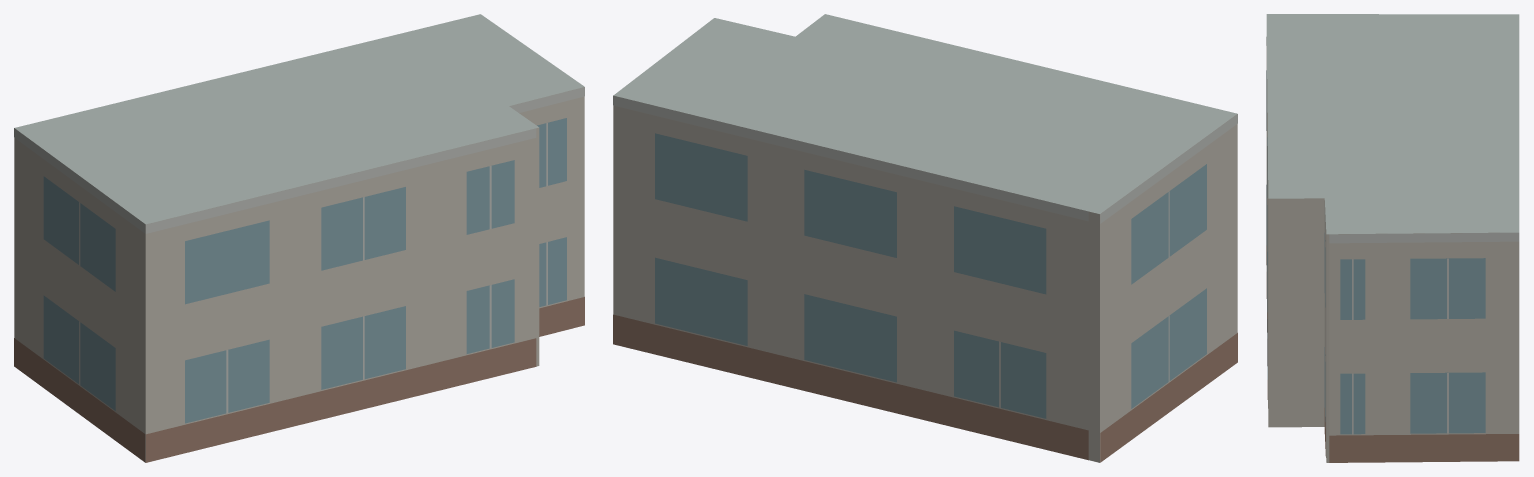
Rendered from survey-upis-32579440.glb.
3 views of the same model, side by side, from view 1: azimuth 30°, elevation 25°; view 2: azimuth 150°, elevation 25°; view 3: azimuth 270°, elevation 25° (orthographic). The views are drawn at different scales.
Visible parts, largest first — view 1: survey-upis-32579440.tmp; view 2: survey-upis-32579440.tmp; view 3: survey-upis-32579440.tmp.
Part boxes in pixels (bbox=[...]): survey-upis-32579440.tmp: bbox=[14, 14, 584, 462]; survey-upis-32579440.tmp: bbox=[613, 14, 1237, 462]; survey-upis-32579440.tmp: bbox=[1266, 14, 1519, 462].
Size of the model in its own units: 12.61 by 6.1 by 6.13.
